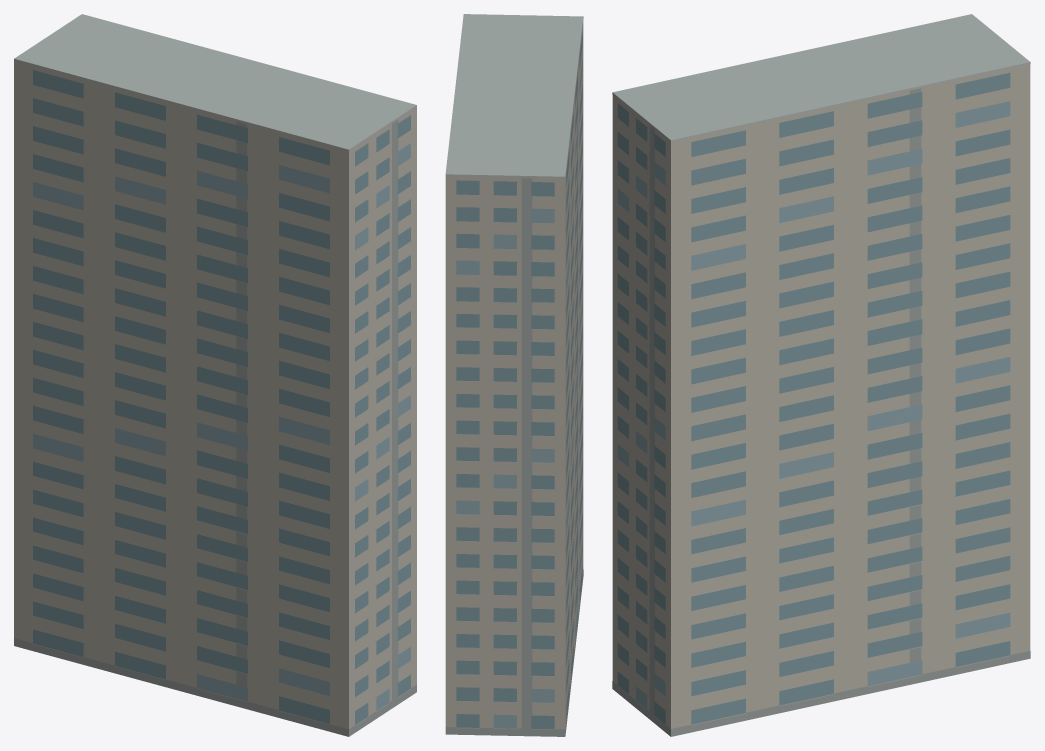
The model's file is residential-db1b56a9-9c60-4732-89c6-49f09674780f.glb.
The picture shows the model from 3 angles, left to right: view 1: azimuth 30°, elevation 25°; view 2: azimuth 150°, elevation 25°; view 3: azimuth 270°, elevation 25°; orthographic projection. The views are drawn at different scales.
Visible parts, largest first — view 1: residential-db1b56a9-9c60-4732-89c6-49f09674780f.tmp; view 2: residential-db1b56a9-9c60-4732-89c6-49f09674780f.tmp; view 3: residential-db1b56a9-9c60-4732-89c6-49f09674780f.tmp.
Boxes of the visible parts, bbox=[...] form: residential-db1b56a9-9c60-4732-89c6-49f09674780f.tmp: bbox=[14, 14, 416, 736]; residential-db1b56a9-9c60-4732-89c6-49f09674780f.tmp: bbox=[445, 14, 583, 736]; residential-db1b56a9-9c60-4732-89c6-49f09674780f.tmp: bbox=[612, 14, 1030, 736].
Bounding box in the file's own units: 26.79 × 59 × 37.47.
